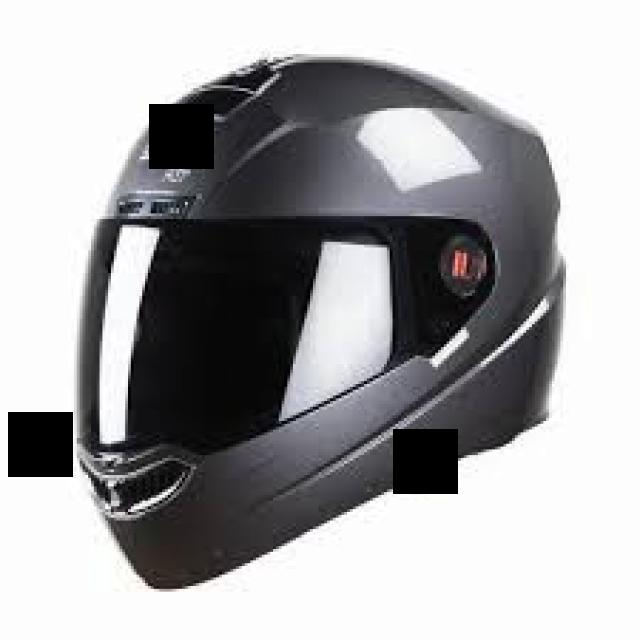Helmet: (79, 58, 564, 587)
